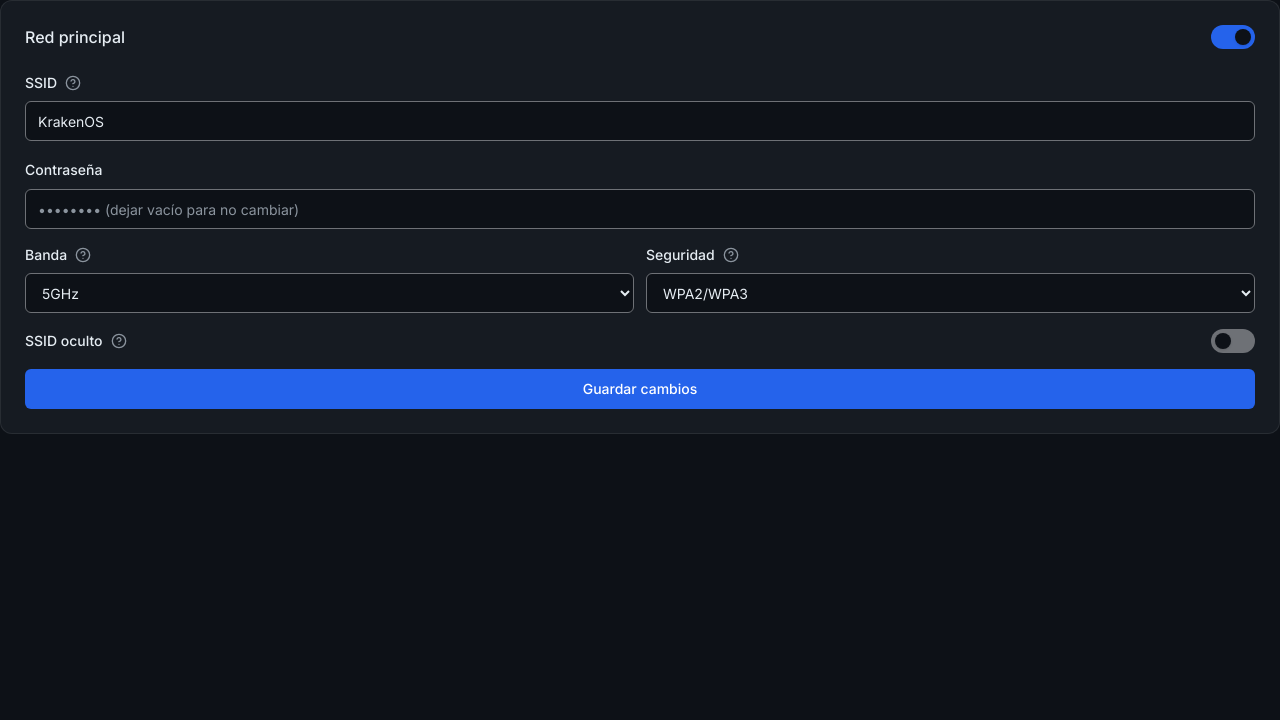
Test case: MainNetworkCard › un admin guarda sin contraseña si no la cambia
The image size is (1280, 720).
Step 1. Replace the text in the field labelled "SSID" with "NuevaRed" → (640, 121), box 25,101 -> 1255,141
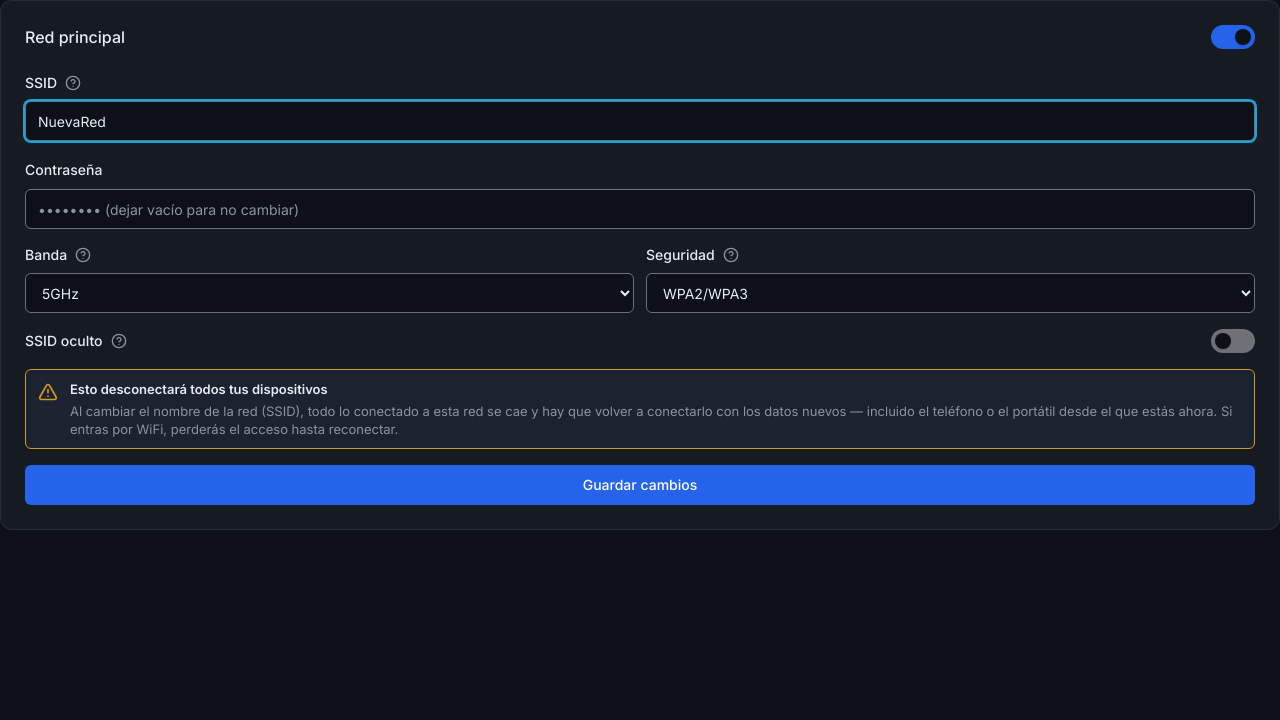
Step 2. Click the button "Guardar cambios" → (640, 485), box 25,465 -> 1255,505
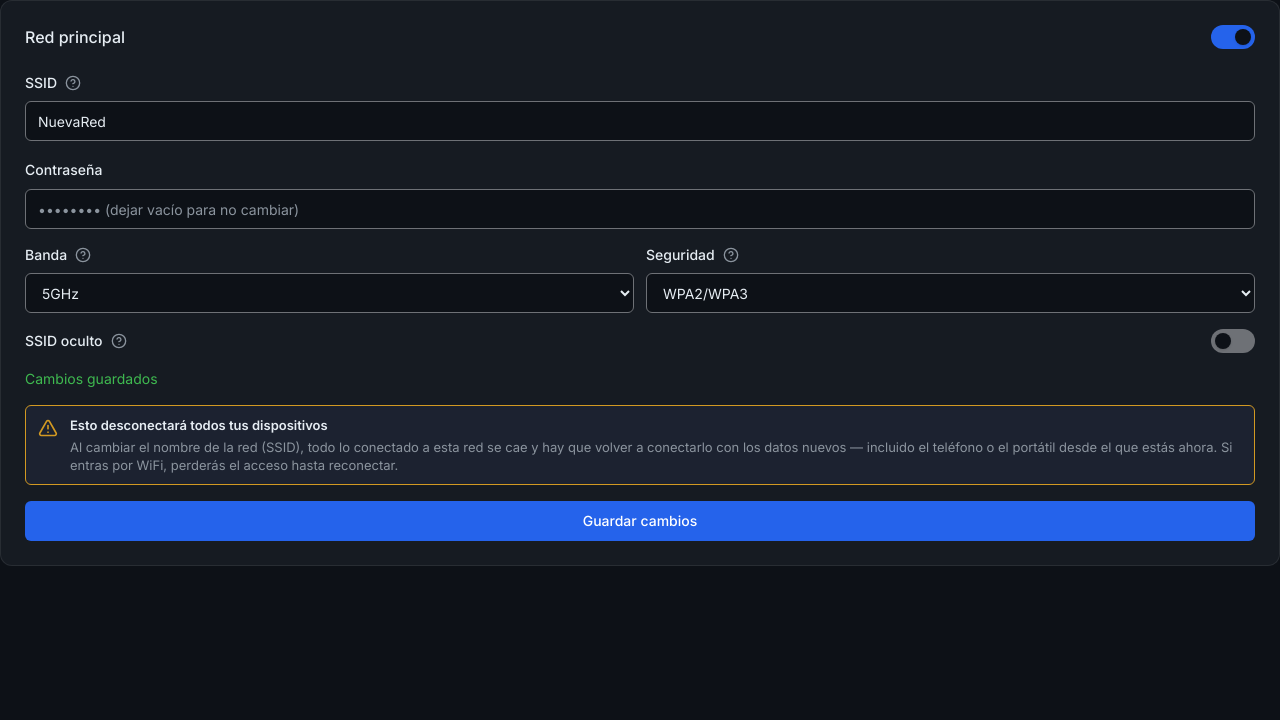
expect the text "Cambios guardados" is shown: met, box 25,370 -> 158,387
